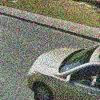cars: (27, 43, 100, 100)
